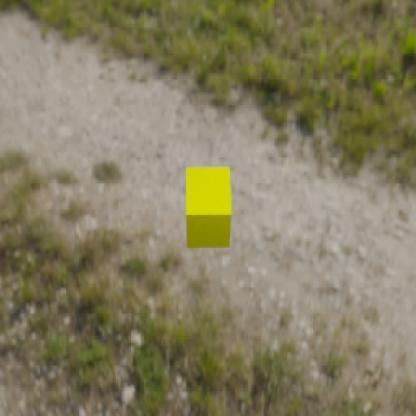cube: (184, 166, 232, 248)
